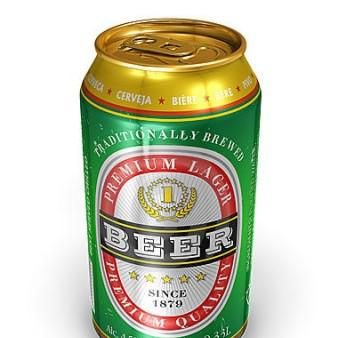beer: (79, 18, 256, 338)
